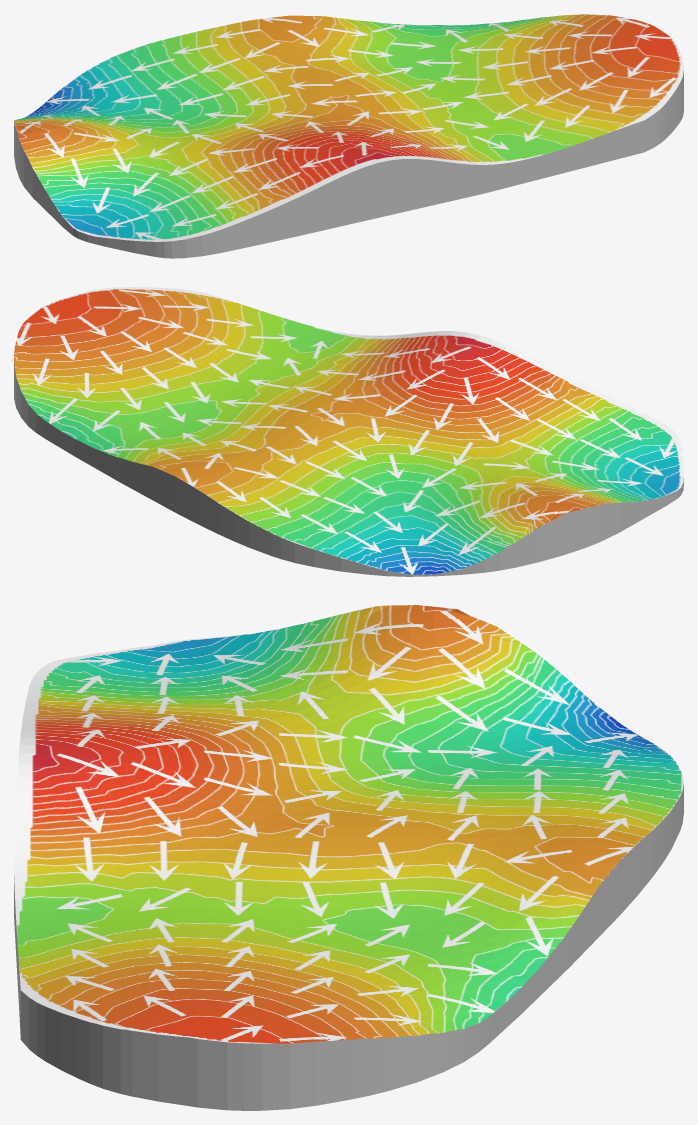
The picture shows the model from 3 angles, top to bottom: view 1: azimuth 30°, elevation 25°; view 2: azimuth 150°, elevation 25°; view 3: azimuth 270°, elevation 25°; orthographic projection. The views are drawn at different scales.
Size of the model in its own units: 7.14 by 0.6175 by 4.4.
2 materials, 1 textured.
